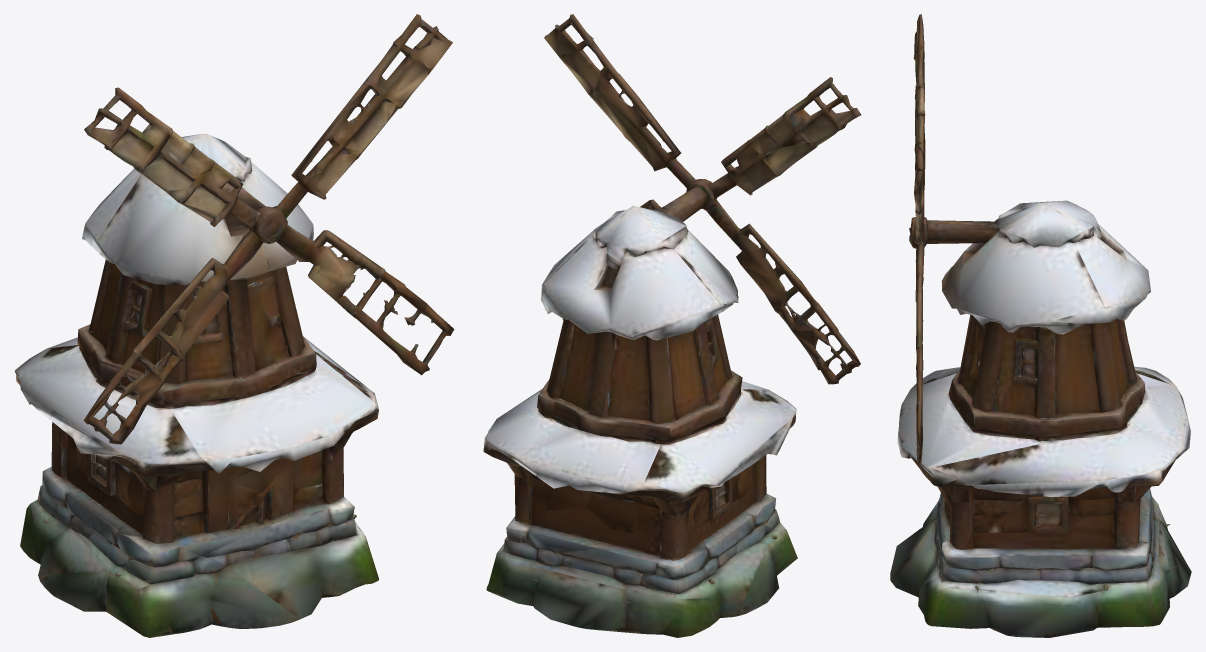
Rendered from mill.glb.
3 views of the same model, side by side, from view 1: azimuth 30°, elevation 25°; view 2: azimuth 150°, elevation 25°; view 3: azimuth 270°, elevation 25° (orthographic). The views are drawn at different scales.
Parts seen in each view (by area): view 1: Mesh; view 2: Mesh; view 3: Mesh.
Boxes of the visible parts, <box> form: Mesh: <box>14,14,454,637</box>; Mesh: <box>483,14,861,637</box>; Mesh: <box>890,14,1191,637</box>.
Size of the model in its own units: 1.32 by 1.91 by 1.05.
Materials: 1 (1 with a texture image).
